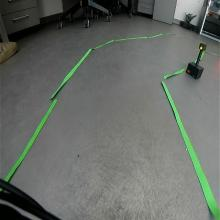green: (198, 43, 207, 51)
